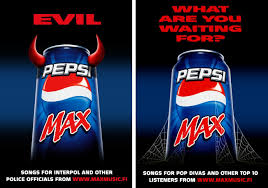can: (26, 37, 110, 177), (161, 37, 247, 171)
